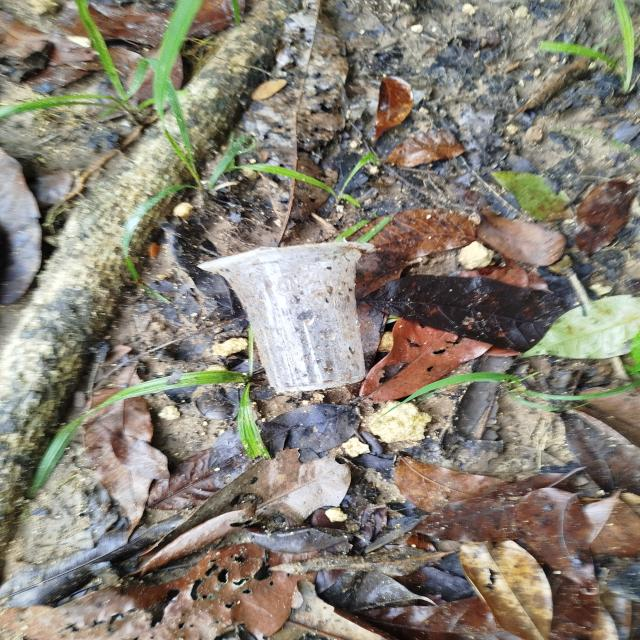plastic: (184, 226, 404, 415)
